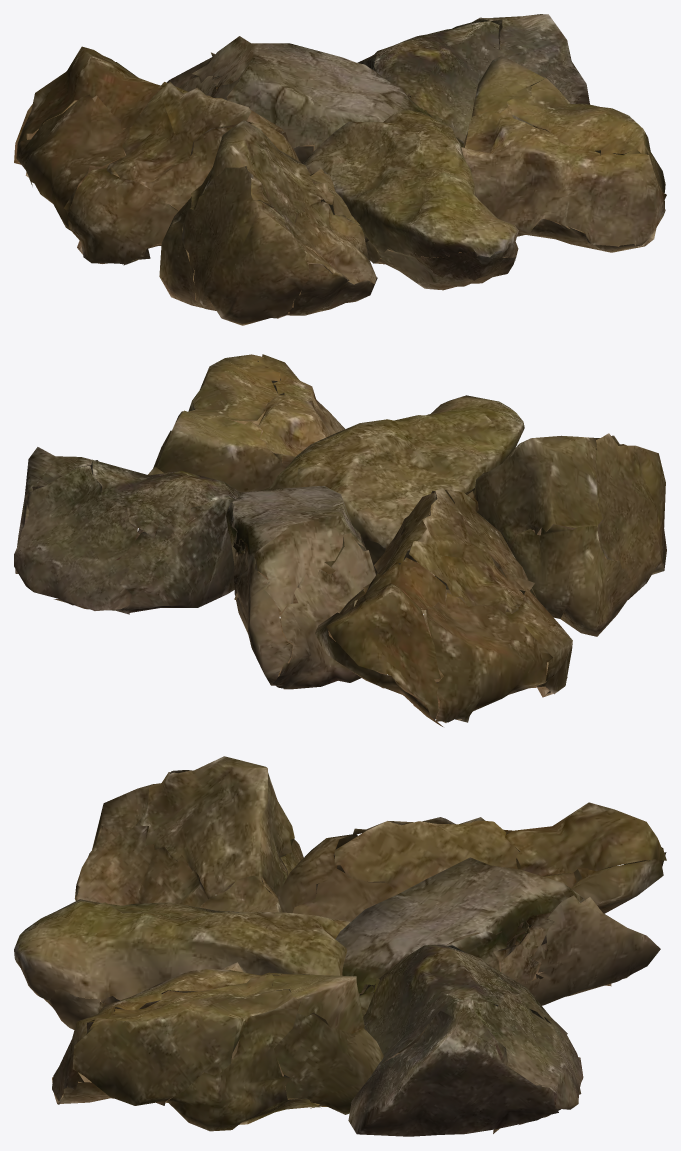
File: veg_rock_moss_set_01.glb
3 renders of one model, top to bottom at view 1: azimuth 30°, elevation 25°; view 2: azimuth 150°, elevation 25°; view 3: azimuth 270°, elevation 25°, orthographic. The views are drawn at different scales.
Parts seen in each view (by area): view 1: rock_moss_set_01_rock01, rock_moss_set_01_rock04, rock_moss_set_01_rock06, rock_moss_set_01_rock05, rock_moss_set_01_rock02, rock_moss_set_01_rock03; view 2: rock_moss_set_01_rock01, rock_moss_set_01_rock03, rock_moss_set_01_rock04, rock_moss_set_01_rock02, rock_moss_set_01_rock05, rock_moss_set_01_rock06; view 3: rock_moss_set_01_rock06, rock_moss_set_01_rock03, rock_moss_set_01_rock02, rock_moss_set_01_rock04, rock_moss_set_01_rock01, rock_moss_set_01_rock05.
Boxes of the visible parts, x1,y1,x2,y2 form: rock_moss_set_01_rock01: (14,46,320,265); rock_moss_set_01_rock04: (159,120,377,325); rock_moss_set_01_rock06: (461,55,666,252); rock_moss_set_01_rock05: (302,108,518,290); rock_moss_set_01_rock02: (167,36,463,163); rock_moss_set_01_rock03: (358,14,589,141); rock_moss_set_01_rock01: (315,488,572,726); rock_moss_set_01_rock03: (14,447,257,614); rock_moss_set_01_rock04: (435,433,666,636); rock_moss_set_01_rock02: (225,486,377,689); rock_moss_set_01_rock05: (261,395,524,574); rock_moss_set_01_rock06: (148,354,344,535); rock_moss_set_01_rock06: (52,962,383,1131); rock_moss_set_01_rock03: (348,944,583,1136); rock_moss_set_01_rock02: (283,857,660,1077); rock_moss_set_01_rock04: (74,756,303,912); rock_moss_set_01_rock01: (277,802,666,950); rock_moss_set_01_rock05: (14,899,367,1029).
Bounding box in the file's own units: 9.83 × 3.17 × 9.64.
1 material, 1 textured.
